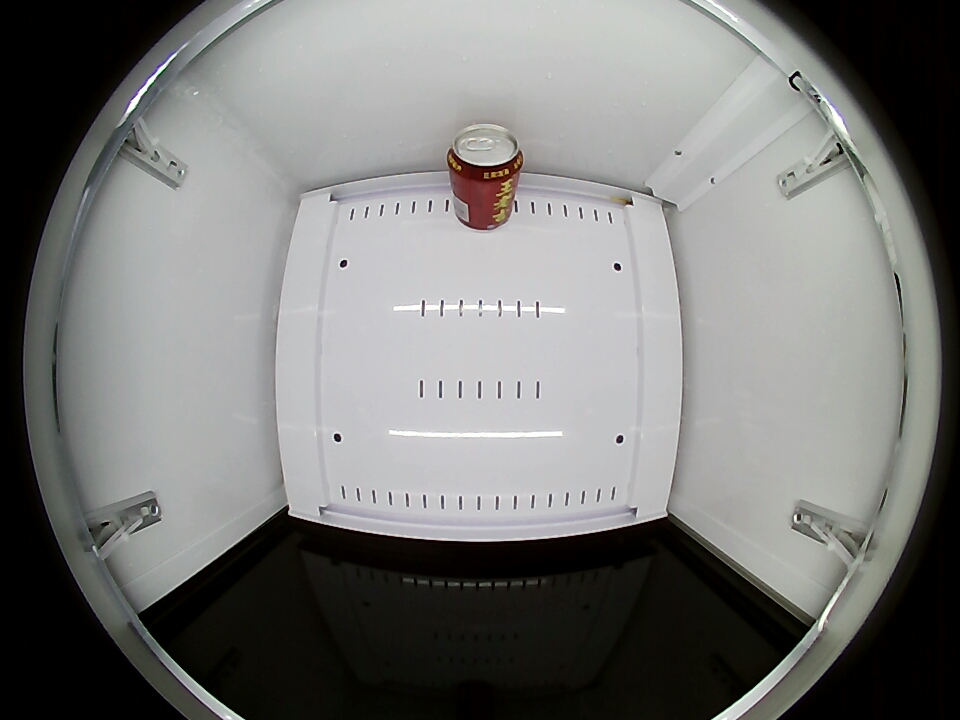wanglaoji-c: (447, 123, 524, 186)
